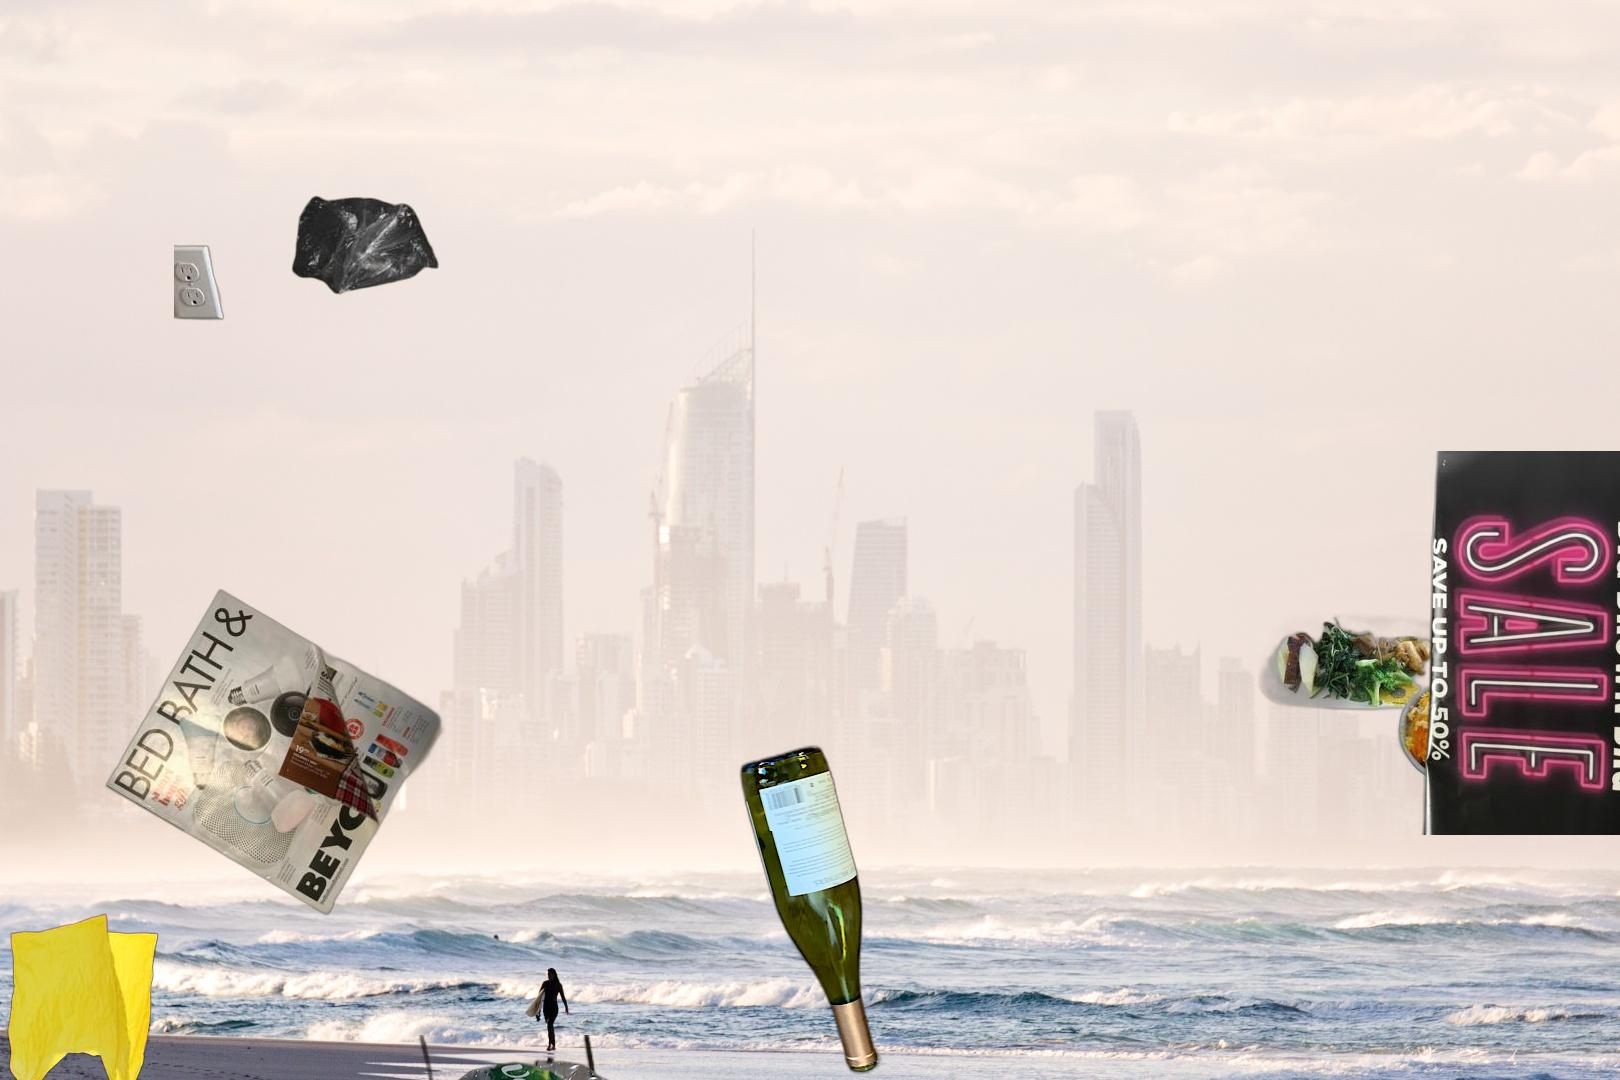biological: (1256, 611, 1517, 789)
glass: (735, 741, 884, 1079)
paper: (102, 586, 446, 918), (1418, 451, 1620, 835)
plastic-bag: (174, 193, 441, 322), (5, 912, 161, 1080)
plastic-bottles: (320, 1035, 626, 1080)
